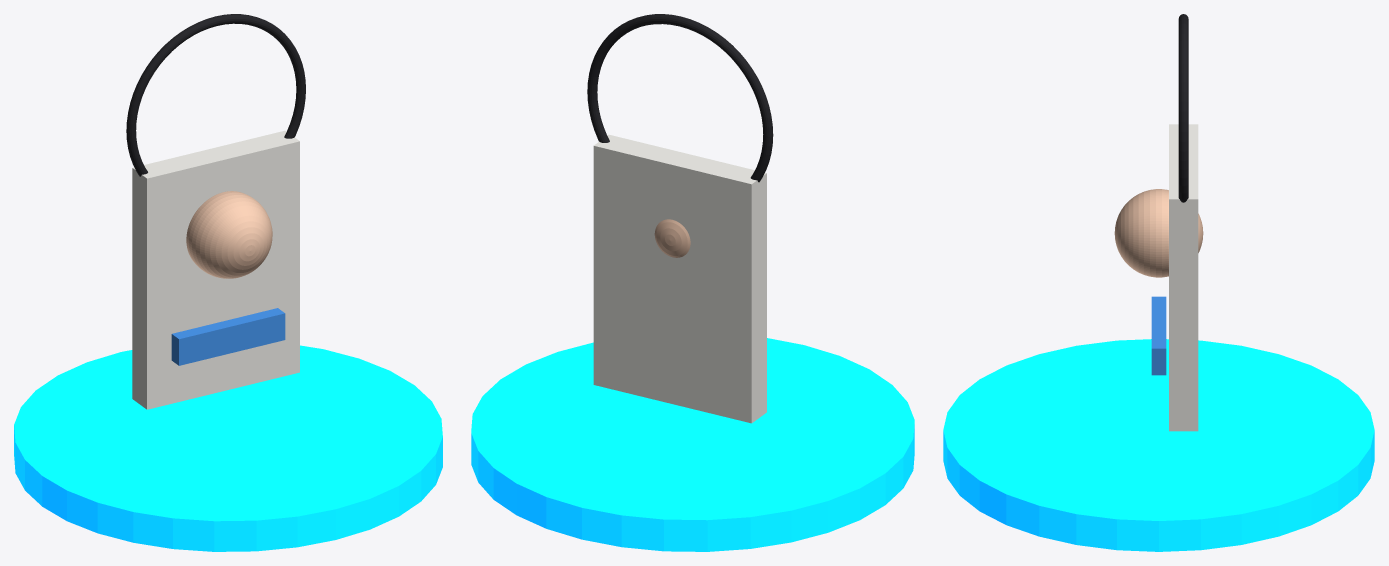
File: news_press_id.glb
The picture shows the model from 3 angles, left to right: view 1: azimuth 30°, elevation 25°; view 2: azimuth 150°, elevation 25°; view 3: azimuth 270°, elevation 25°; orthographic projection. The views are drawn at different scales.
Parts seen in each view (by area): view 1: 09_06_Popular_News_Press_ID_ROOT_base, 09_06_Popular_News_Press_ID_part_01, 09_06_Popular_News_Press_ID_part_02, 09_06_Popular_News_Press_ID_part_03, 09_06_Popular_News_Press_ID_part_04; view 2: 09_06_Popular_News_Press_ID_ROOT_base, 09_06_Popular_News_Press_ID_part_01, 09_06_Popular_News_Press_ID_part_04, 09_06_Popular_News_Press_ID_part_02; view 3: 09_06_Popular_News_Press_ID_ROOT_base, 09_06_Popular_News_Press_ID_part_01, 09_06_Popular_News_Press_ID_part_02, 09_06_Popular_News_Press_ID_part_04, 09_06_Popular_News_Press_ID_part_03.
Part boxes in pixels (<box>): 09_06_Popular_News_Press_ID_ROOT_base: <box>14,345,442,551</box>; 09_06_Popular_News_Press_ID_part_01: <box>132,130,299,409</box>; 09_06_Popular_News_Press_ID_part_02: <box>186,191,272,278</box>; 09_06_Popular_News_Press_ID_part_03: <box>171,308,285,365</box>; 09_06_Popular_News_Press_ID_part_04: <box>126,14,305,176</box>; 09_06_Popular_News_Press_ID_ROOT_base: <box>471,338,914,551</box>; 09_06_Popular_News_Press_ID_part_01: <box>593,134,766,423</box>; 09_06_Popular_News_Press_ID_part_04: <box>587,14,773,182</box>; 09_06_Popular_News_Press_ID_part_02: <box>654,219,690,257</box>; 09_06_Popular_News_Press_ID_ROOT_base: <box>943,339,1374,551</box>; 09_06_Popular_News_Press_ID_part_01: <box>1169,124,1198,431</box>; 09_06_Popular_News_Press_ID_part_02: <box>1114,189,1203,277</box>; 09_06_Popular_News_Press_ID_part_04: <box>1178,14,1188,202</box>; 09_06_Popular_News_Press_ID_part_03: <box>1151,296,1166,375</box>.
Size of the model in its own units: 0.76 by 0.85 by 0.76.
